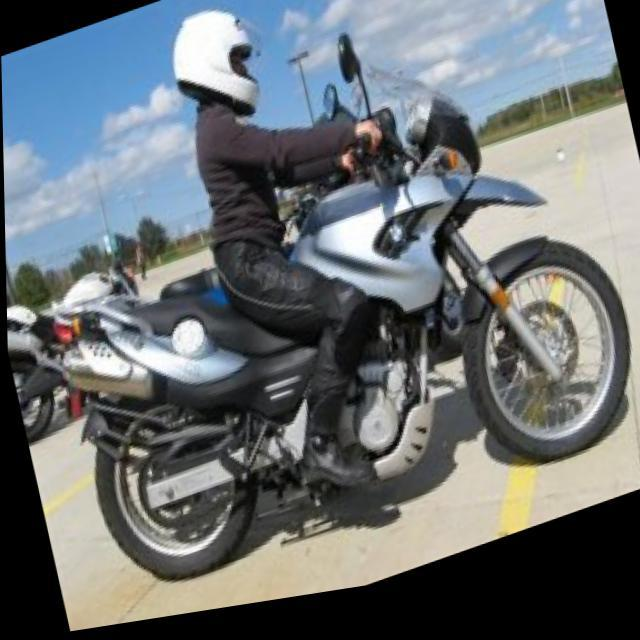Helmet: (163, 0, 264, 132)
